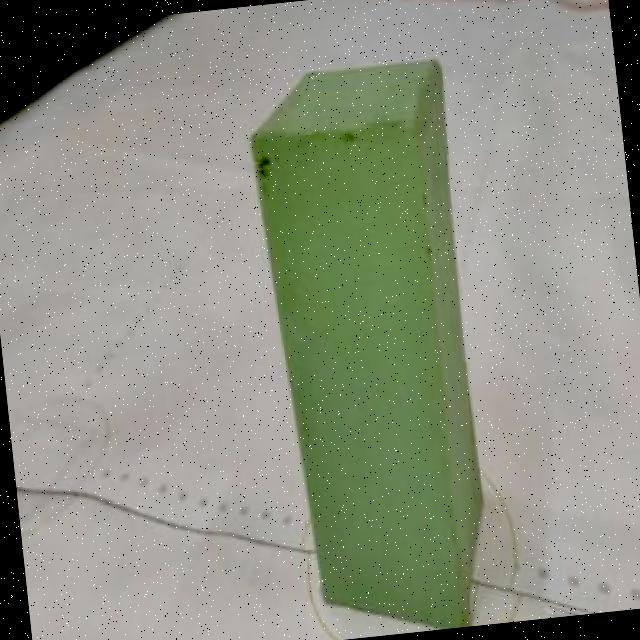greenbox: (244, 53, 497, 640)
